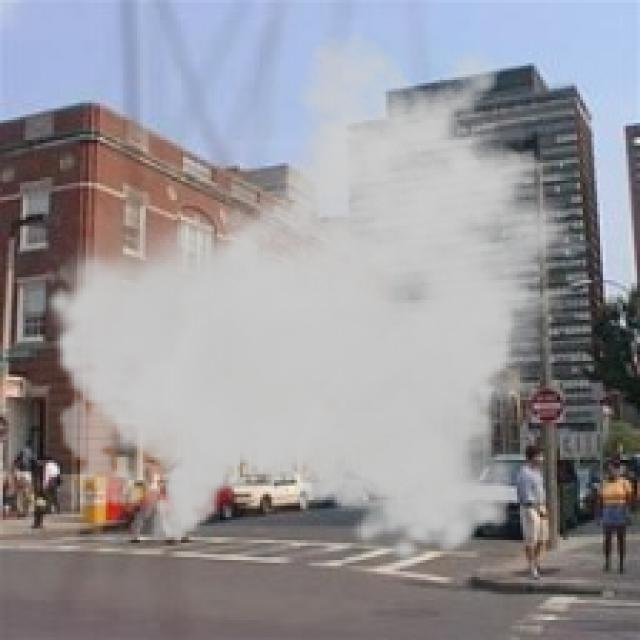smoke: (43, 31, 611, 566)
